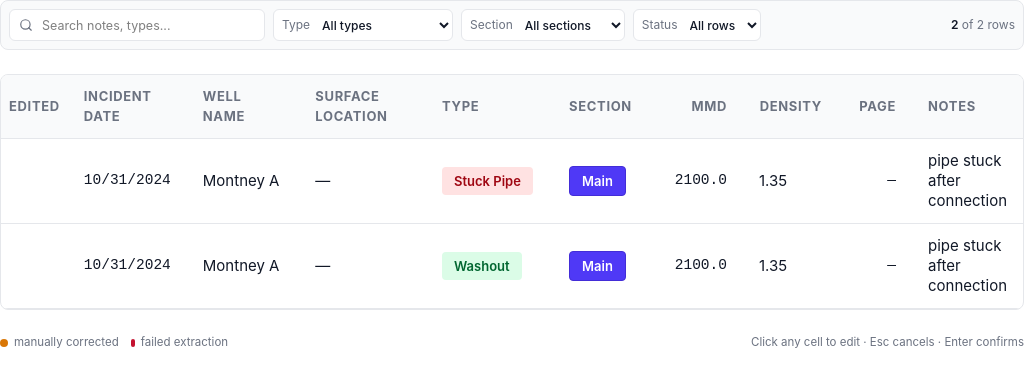
Test: OccurrenceTable › filters rows by type dropdown
Select "Washout" in the dropdown named "Filter by type": (385, 25) [318,12,452,38]
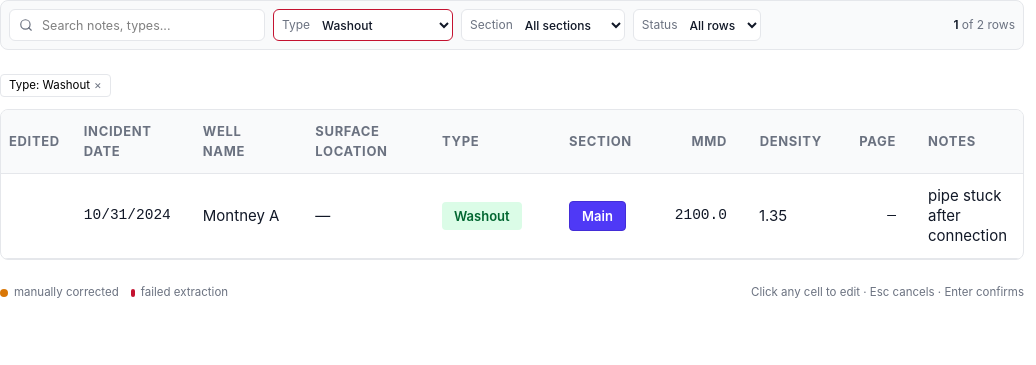
expect the text labelled "Washout" is shown: met, box [442,202,522,230]
expect the text labelled "Stuck Pipe" is gone: met
